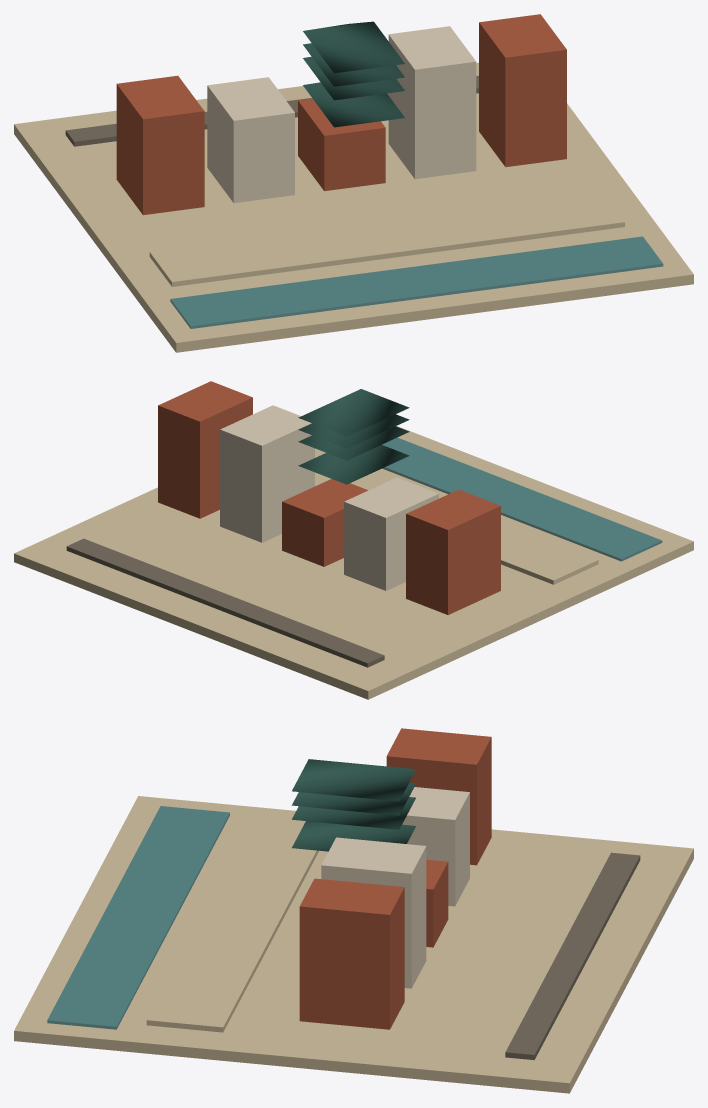
File: model-medium.glb
The picture shows the model from 3 angles, top to bottom: view 1: azimuth 30°, elevation 25°; view 2: azimuth 150°, elevation 25°; view 3: azimuth 270°, elevation 25°; orthographic projection. The views are drawn at different scales.
Visible parts, largest first — view 1: context_site_plinth, street_public_axis, context_water_edge, street_facade_4, street_facade_3, street_facade_0, street_facade_1, street_facade_2, street_roof_3, street_roof_2, street_roof_1, street_roof_0 (+1 smaller); view 2: context_site_plinth, street_facade_0, street_facade_3, context_water_edge, street_facade_4, street_facade_1, front_scale_strip, street_facade_2, street_public_axis, street_roof_3, street_roof_2, street_roof_0 (+1 smaller); view 3: context_site_plinth, street_public_axis, context_water_edge, street_facade_4, front_scale_strip, street_facade_0, street_facade_3, street_facade_1, street_roof_3, street_roof_2, street_facade_2, street_roof_0 (+1 smaller).
Part boxes in pixels (x1,y1,x2,y2): context_site_plinth: [14, 62, 693, 352]; street_public_axis: [149, 192, 624, 286]; context_water_edge: [170, 236, 663, 328]; street_facade_4: [479, 14, 566, 167]; street_facade_3: [388, 26, 476, 179]; street_facade_0: [116, 75, 204, 215]; street_facade_1: [207, 77, 294, 202]; street_facade_2: [298, 98, 385, 191]; street_roof_3: [303, 21, 404, 73]; street_roof_2: [303, 82, 404, 127]; street_roof_1: [303, 56, 404, 100]; street_roof_0: [303, 37, 404, 86]; context_site_plinth: [14, 426, 693, 699]; street_facade_0: [406, 489, 500, 614]; street_facade_3: [220, 405, 314, 542]; context_water_edge: [382, 437, 662, 561]; street_facade_4: [158, 381, 252, 518]; street_facade_1: [344, 477, 438, 590]; front_scale_strip: [66, 538, 384, 667]; street_facade_2: [282, 479, 367, 566]; street_public_axis: [315, 450, 598, 584]; street_roof_3: [298, 389, 409, 436]; street_roof_2: [298, 444, 409, 484]; street_roof_0: [298, 414, 409, 448]; context_site_plinth: [14, 796, 693, 1093]; street_public_axis: [146, 814, 318, 1032]; context_water_edge: [47, 806, 229, 1029]; street_facade_4: [299, 878, 404, 1029]; front_scale_strip: [505, 852, 640, 1060]; street_facade_0: [386, 728, 491, 865]; street_facade_3: [321, 837, 426, 988]; street_facade_1: [402, 787, 469, 906]; street_roof_3: [292, 759, 415, 801]; street_roof_2: [292, 821, 415, 851]; street_facade_2: [426, 859, 448, 947]; street_roof_0: [291, 782, 416, 815].
Size of the model in its own units: 9.55 by 2.89 by 9.55.
